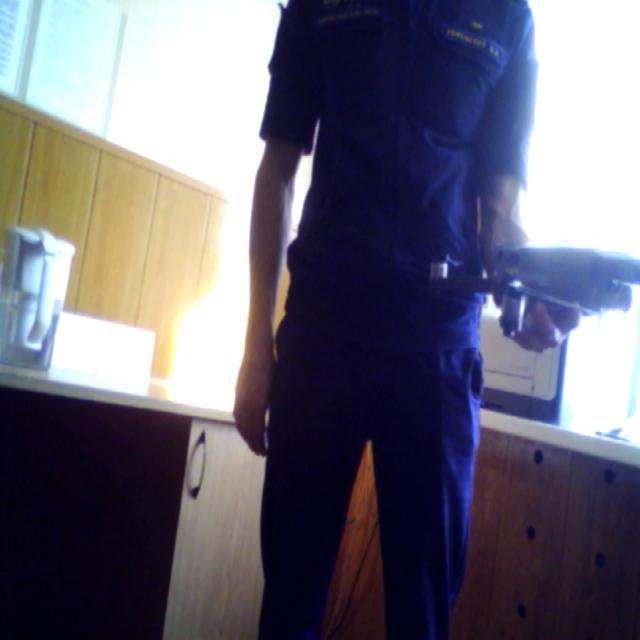drone: (420, 201, 640, 351)
